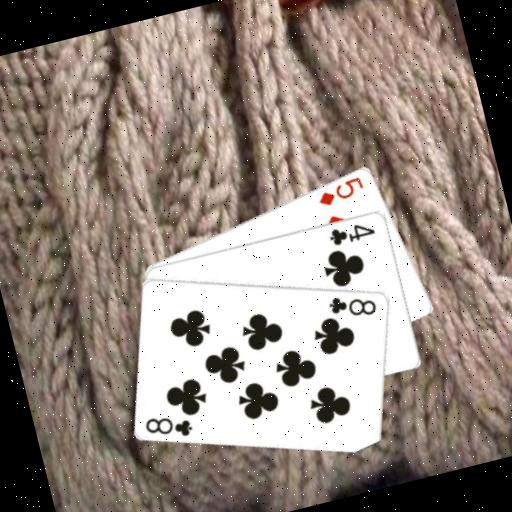4C: (324, 216, 378, 249)
5D: (312, 172, 368, 210)
8C: (325, 284, 381, 326), (141, 405, 197, 447)
